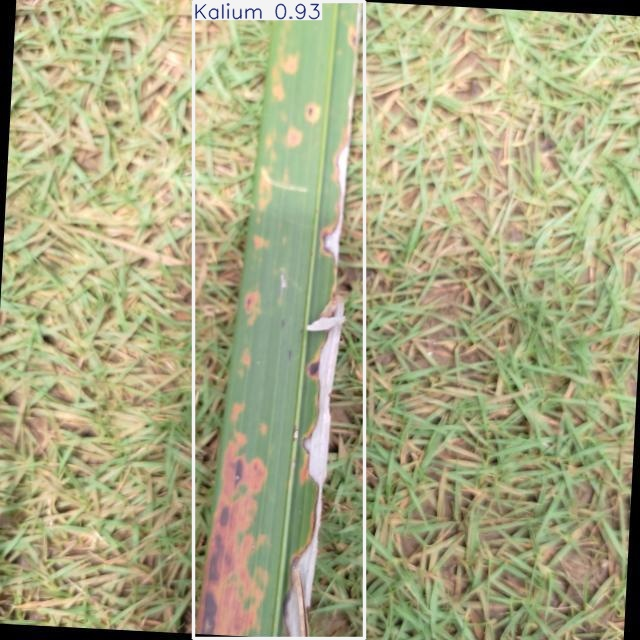Kalium: (194, 1, 364, 638)
